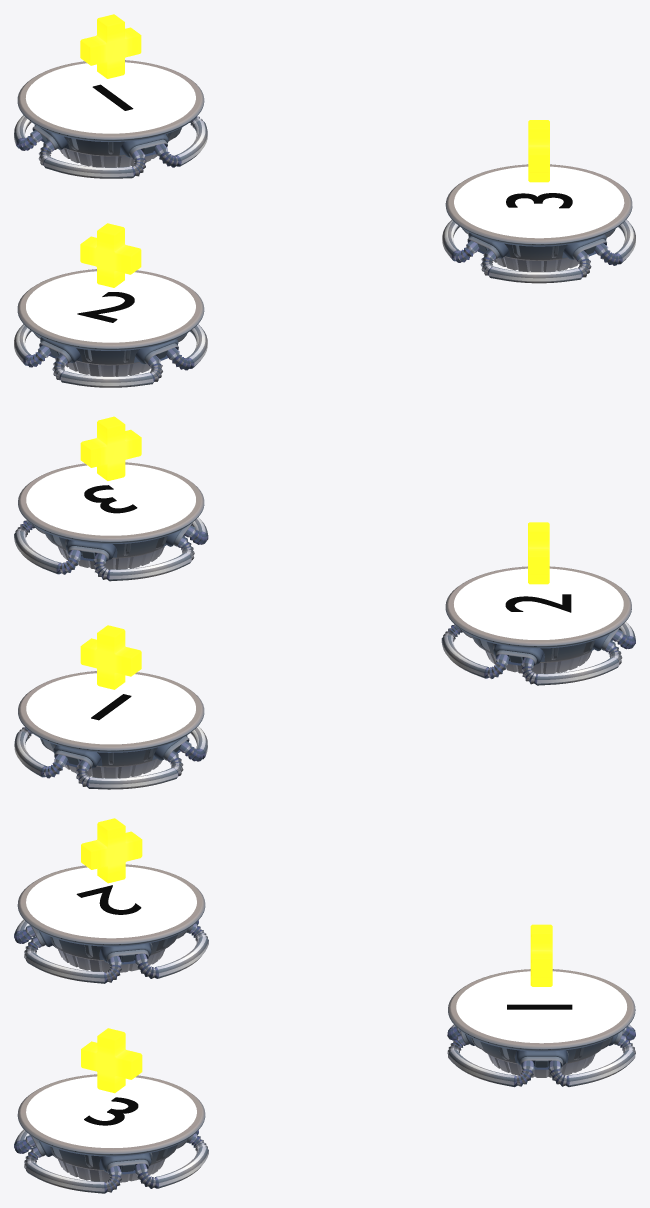
File: BTLMN_LemonPlatforms.glb
3 renders of one model, top to bottom at view 1: azimuth 30°, elevation 25°; view 2: azimuth 150°, elevation 25°; view 3: azimuth 270°, elevation 25°, orthographic.
Parts seen in each view (by area): view 1: Platform_3, Platform_1, Platform_2, Plus_1_Stroke, Plus_2_Stroke, Plus_3_Stroke, Text2, Text3; view 2: Platform_1, Platform_2, Platform_3, Plus_1_Stroke, Plus_3_Stroke, Plus_2_Stroke, Text2, Text3; view 3: Platform_1, Platform_3, Platform_2, Plus_2_Stroke, Plus_3_Stroke, Plus_1_Stroke, Text2, Text3.
Part boxes in pixels (left/top/right/bottom): Platform_3: left=442, top=164, right=635, bottom=283; Platform_1: left=14, top=60, right=207, bottom=178; Platform_2: left=14, top=269, right=207, bottom=387; Plus_1_Stroke: left=80, top=14, right=141, bottom=78; Plus_2_Stroke: left=80, top=223, right=141, bottom=287; Plus_3_Stroke: left=528, top=120, right=549, bottom=182; Text2: left=77, top=292, right=134, bottom=322; Text3: left=506, top=193, right=572, bottom=208; Platform_1: left=14, top=671, right=207, bottom=789; Platform_2: left=441, top=566, right=635, bottom=685; Platform_3: left=14, top=462, right=208, bottom=581; Plus_1_Stroke: left=80, top=625, right=141, bottom=689; Plus_3_Stroke: left=80, top=416, right=141, bottom=480; Plus_2_Stroke: left=528, top=522, right=549, bottom=584; Text2: left=505, top=594, right=571, bottom=612; Text3: left=84, top=485, right=137, bottom=513; Platform_1: left=447, top=969, right=635, bottom=1087; Platform_3: left=14, top=1074, right=208, bottom=1193; Platform_2: left=14, top=864, right=208, bottom=983; Plus_2_Stroke: left=81, top=818, right=142, bottom=883; Plus_3_Stroke: left=81, top=1028, right=142, bottom=1093; Plus_1_Stroke: left=530, top=924, right=552, bottom=986; Text2: left=76, top=885, right=141, bottom=914; Text3: left=84, top=1097, right=138, bottom=1125.
Size of what is drawn, in the model's own units: 724 by 147 by 651.
5 materials, 4 textured.
